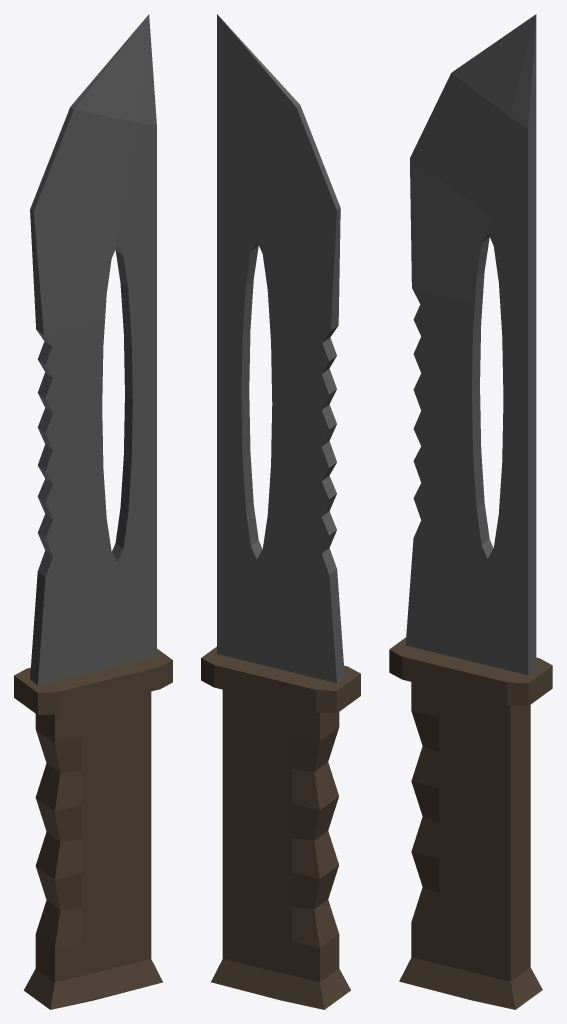
File: contraband_knife.fbx
3 renders of one model, left to right at view 1: azimuth 30°, elevation 25°; view 2: azimuth 150°, elevation 25°; view 3: azimuth 330°, elevation 25°, orthographic. The views are drawn at different scales.
Parts seen in each view (by area): view 1: Knife; view 2: Knife; view 3: Knife.
Part boxes in pixels (x1,y1,x2,y2): Knife: (14, 14, 172, 1009); Knife: (201, 14, 360, 1009); Knife: (389, 14, 552, 1009).
Bounding box in the file's own units: 91.23 × 626 × 37.16.
